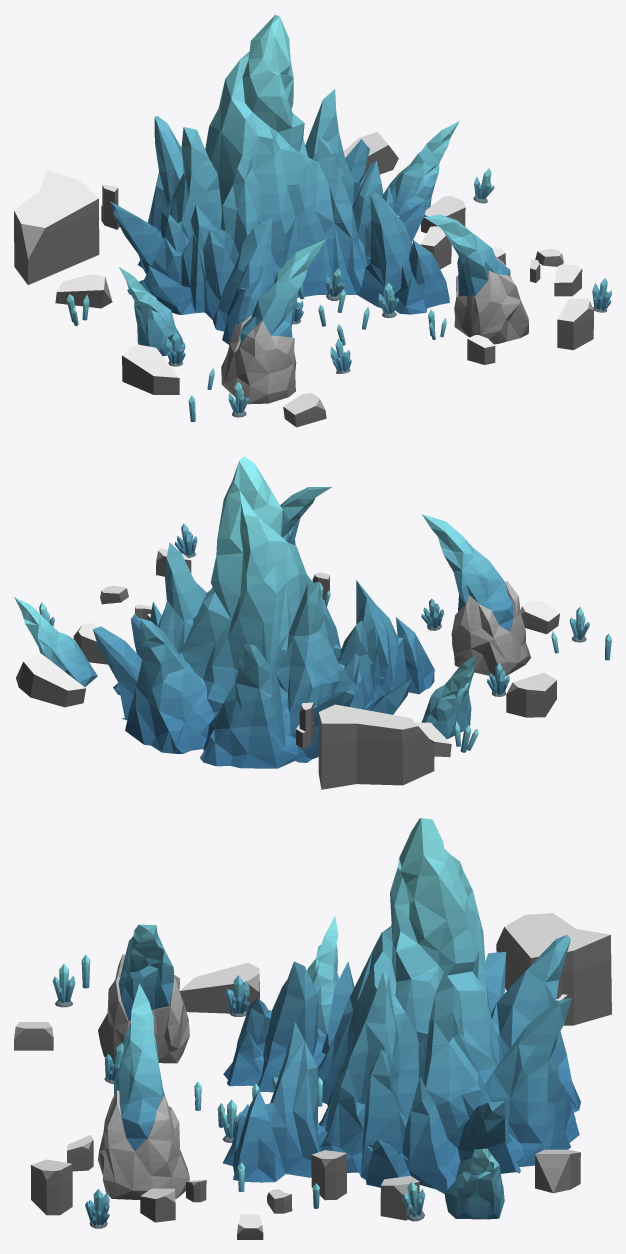
The model's file is field_04.glb.
3 views of the same model, one above another, from view 1: azimuth 30°, elevation 25°; view 2: azimuth 150°, elevation 25°; view 3: azimuth 270°, elevation 25° (orthographic). The views are drawn at different scales.
Visible parts, largest first — view 1: crystal mountain_12, crystal stone lagre 2 (1)_13, stone winter small_14, crystal stone lagre 2_17, crystal stone lagre (1)_9, crystal stone lagre_18, stone winter small 4_2, stone winter small 3 (3)_8, stone winter small 2_5, stone winter small 7 (1)_6, stone winter small 2 (1)_10, stone winter small 6_11 (+4 smaller); view 2: crystal mountain_12, crystal stone lagre 2 (1)_13, stone winter small_14, crystal stone lagre (1)_9, crystal stone lagre_18, stone winter small 2 (1)_10, stone winter small 4_2, crystal stone lagre 2_17, stone winter small 7 (1)_6, stone winter small 6_11, stone winter small 5_3, stone winter small 2_5 (+4 smaller); view 3: crystal mountain_12, crystal stone lagre 2_17, stone winter small_14, crystal stone lagre 2 (1)_13, crystal stone lagre (1)_9, stone winter small 4_2, stone winter small 3 (3)_8, crystal stone lagre_18, stone winter small 2 (1)_10, stone winter small 3_15, stone winter small 6_11, stone winter small 7 (1)_6 (+7 smaller).
Boxes of the visible parts, bbox=[...] form: crystal mountain_12: bbox=[109, 14, 449, 345]; crystal stone lagre 2 (1)_13: bbox=[221, 239, 326, 404]; stone winter small_14: bbox=[14, 169, 99, 284]; crystal stone lagre 2_17: bbox=[424, 214, 528, 344]; crystal stone lagre (1)_9: bbox=[383, 121, 459, 215]; crystal stone lagre_18: bbox=[119, 267, 183, 355]; stone winter small 4_2: bbox=[122, 345, 179, 394]; stone winter small 3 (3)_8: bbox=[557, 298, 593, 350]; stone winter small 2_5: bbox=[55, 274, 112, 308]; stone winter small 7 (1)_6: bbox=[283, 393, 326, 427]; stone winter small 2 (1)_10: bbox=[343, 132, 398, 174]; stone winter small 6_11: bbox=[421, 196, 465, 233]; crystal mountain_12: bbox=[93, 456, 434, 768]; crystal stone lagre 2 (1)_13: bbox=[422, 514, 530, 676]; stone winter small_14: bbox=[318, 704, 434, 789]; crystal stone lagre (1)_9: bbox=[14, 597, 97, 686]; crystal stone lagre_18: bbox=[421, 655, 476, 738]; stone winter small 2 (1)_10: bbox=[16, 653, 85, 707]; stone winter small 4_2: bbox=[506, 672, 556, 717]; crystal stone lagre 2_17: bbox=[280, 487, 331, 545]; stone winter small 7 (1)_6: bbox=[520, 600, 559, 634]; stone winter small 6_11: bbox=[73, 623, 107, 664]; stone winter small 5_3: bbox=[296, 702, 314, 748]; stone winter small 2_5: bbox=[415, 722, 451, 757]; crystal mountain_12: bbox=[223, 818, 580, 1193]; crystal stone lagre 2_17: bbox=[98, 983, 189, 1199]; stone winter small_14: bbox=[496, 913, 611, 1025]; crystal stone lagre 2 (1)_13: bbox=[98, 924, 189, 1063]; crystal stone lagre (1)_9: bbox=[444, 1148, 504, 1219]; stone winter small 4_2: bbox=[179, 962, 259, 1013]; stone winter small 3 (3)_8: bbox=[30, 1159, 72, 1215]; crystal stone lagre_18: bbox=[307, 915, 339, 1036]; stone winter small 2 (1)_10: bbox=[535, 1149, 580, 1193]; stone winter small 3_15: bbox=[311, 1150, 346, 1200]; stone winter small 6_11: bbox=[380, 1176, 419, 1220]; stone winter small 7 (1)_6: bbox=[14, 1022, 53, 1050].
Size of the model in its own units: 21.45 by 12.25 by 20.79.
1 material, 1 textured.
